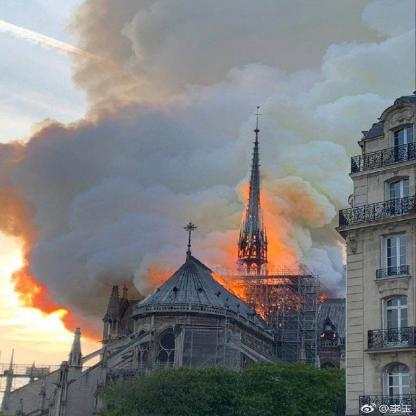other: (212, 201, 297, 306), (10, 264, 88, 348)
smoke: (37, 10, 336, 257)
